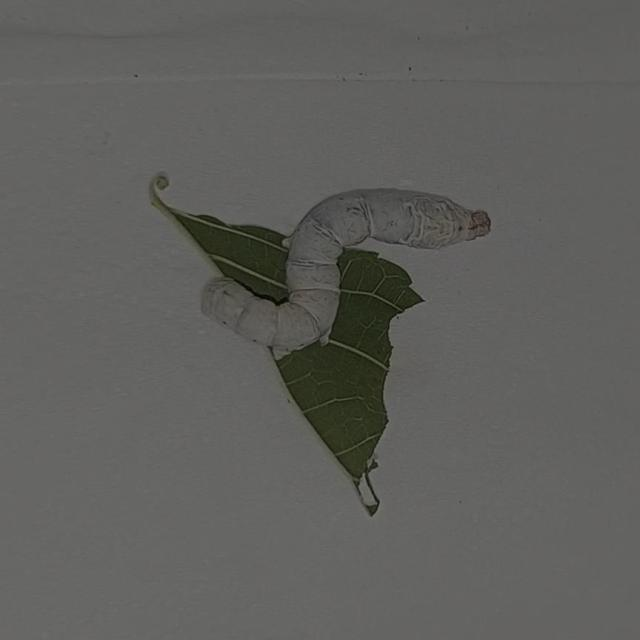Healthy: (194, 160, 510, 380)
